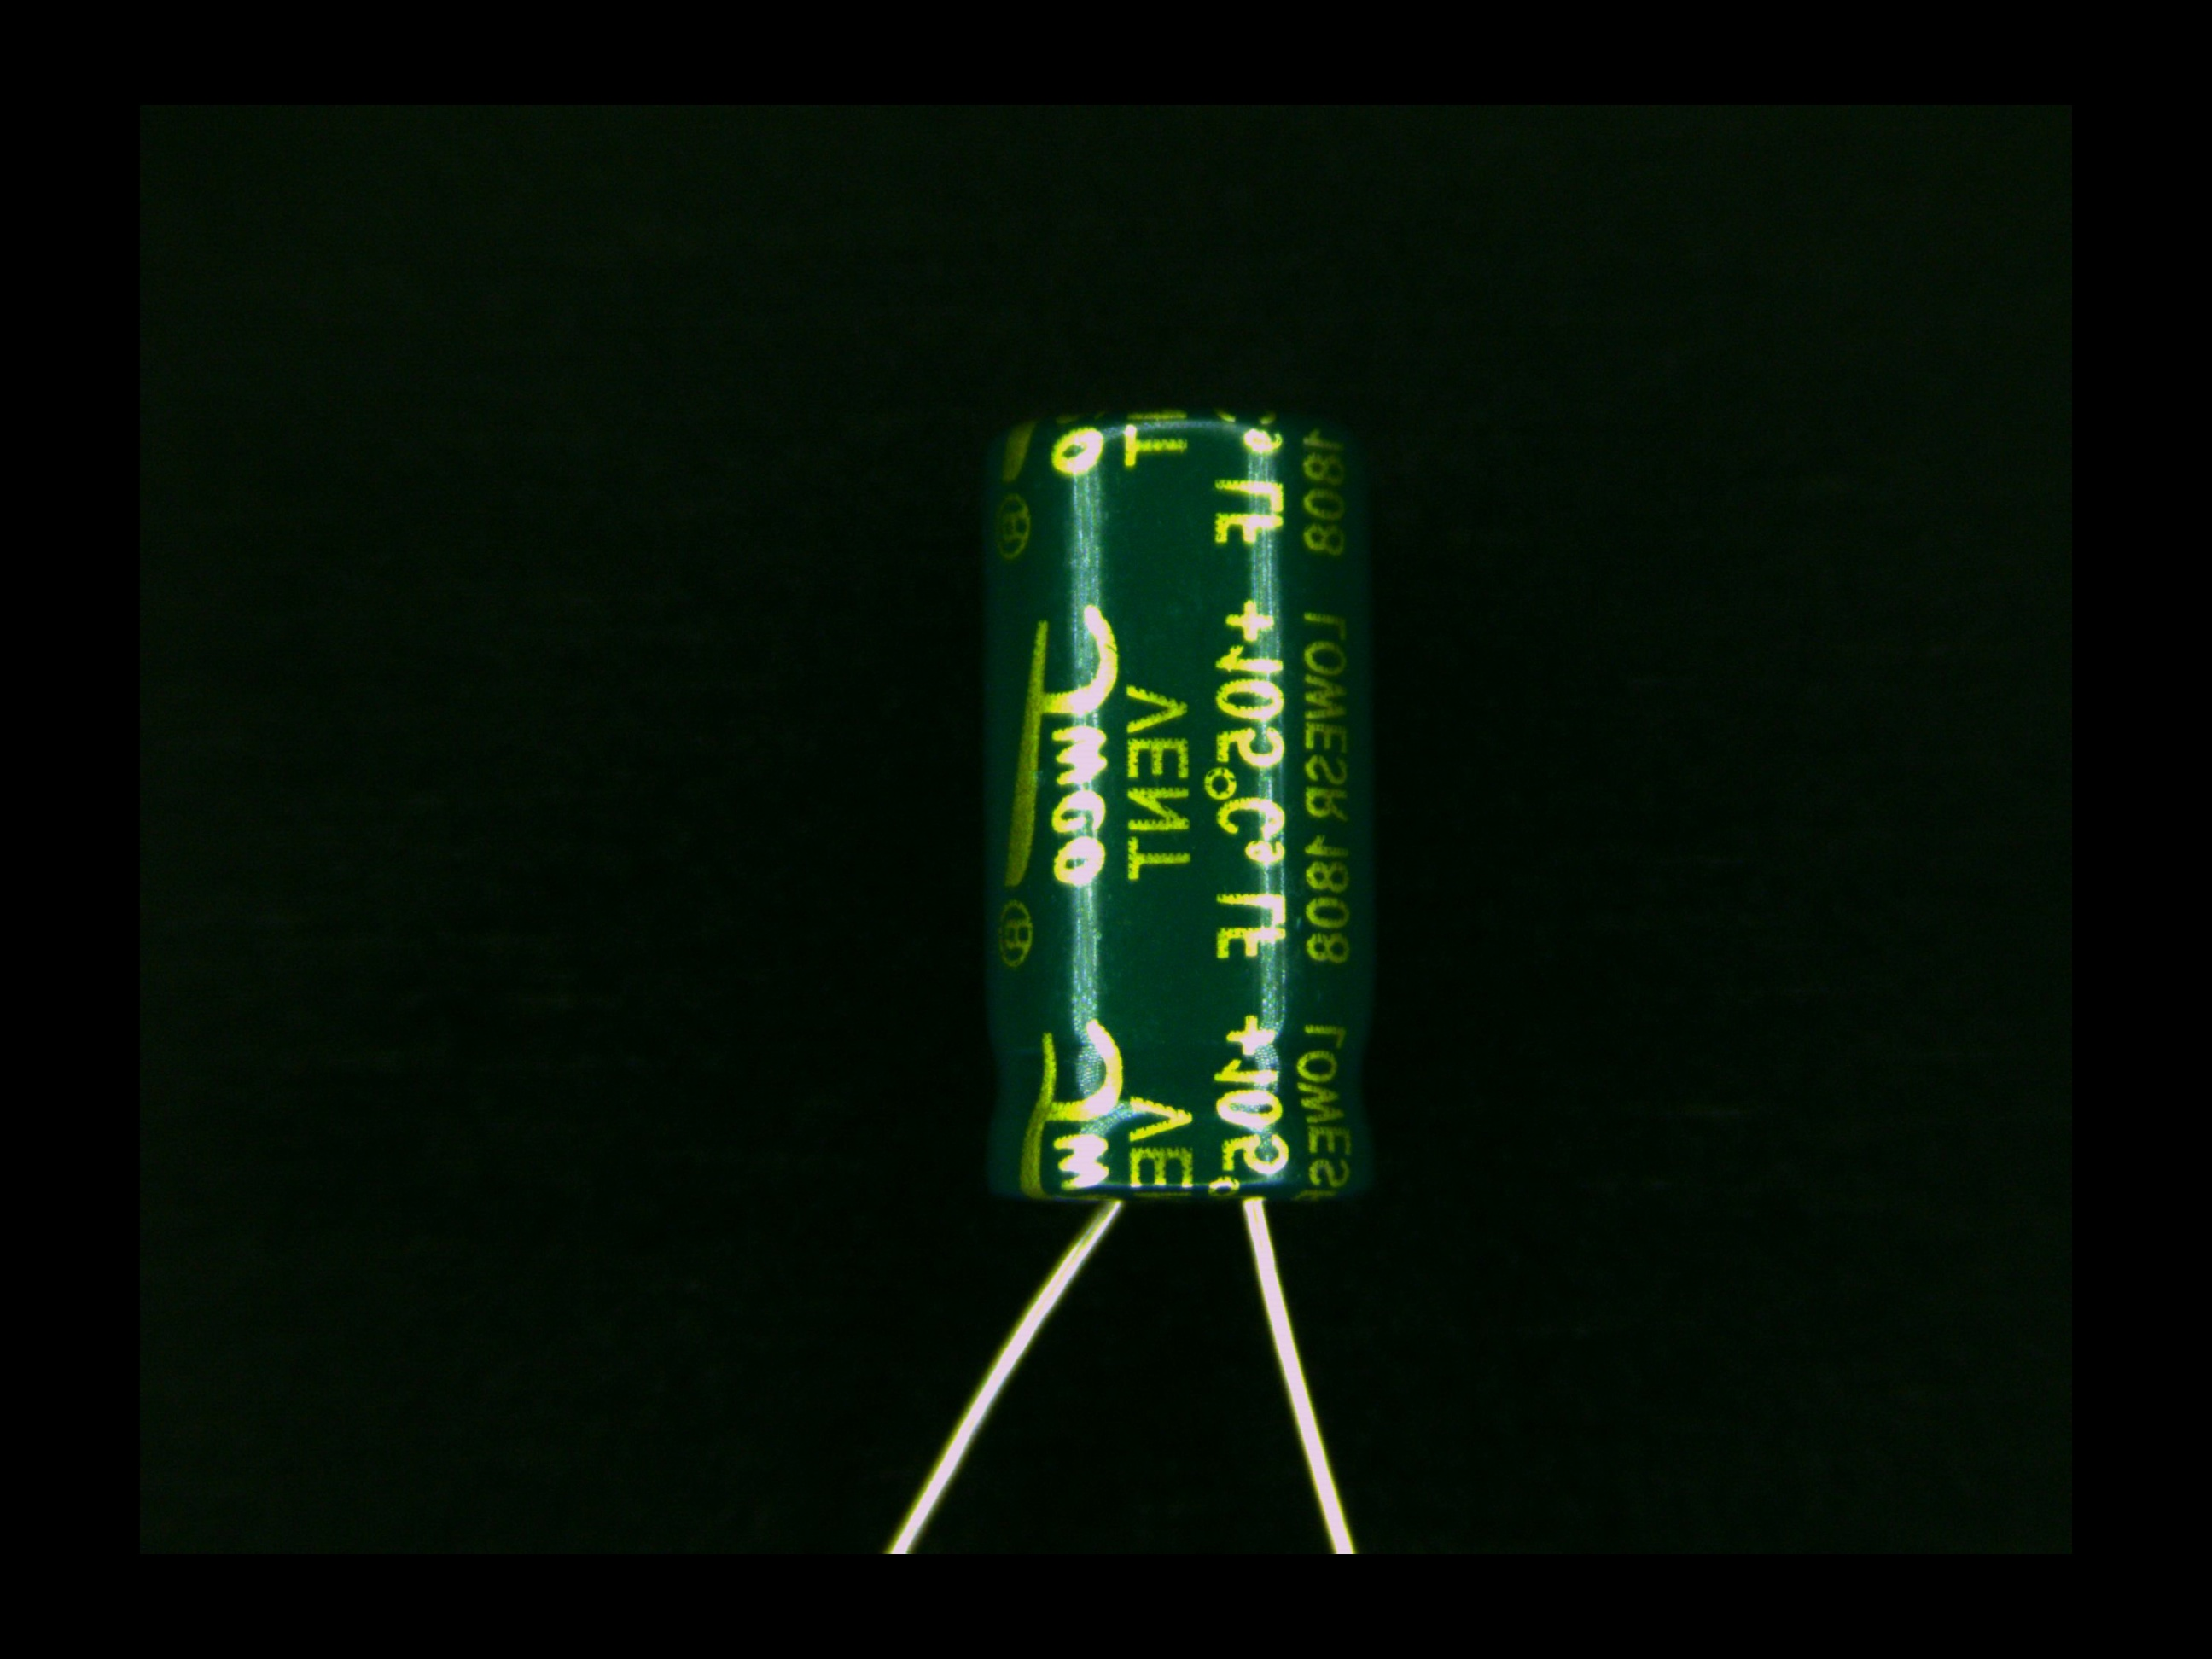c1: (977, 404, 1376, 1384)
